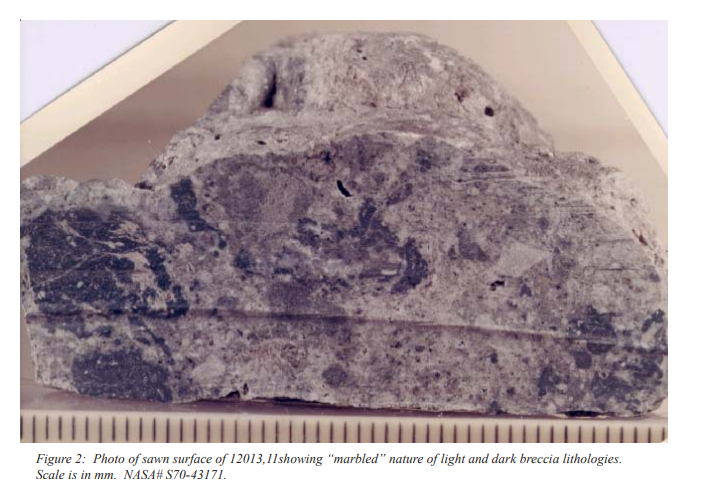Breccia: (36, 28, 671, 432)
